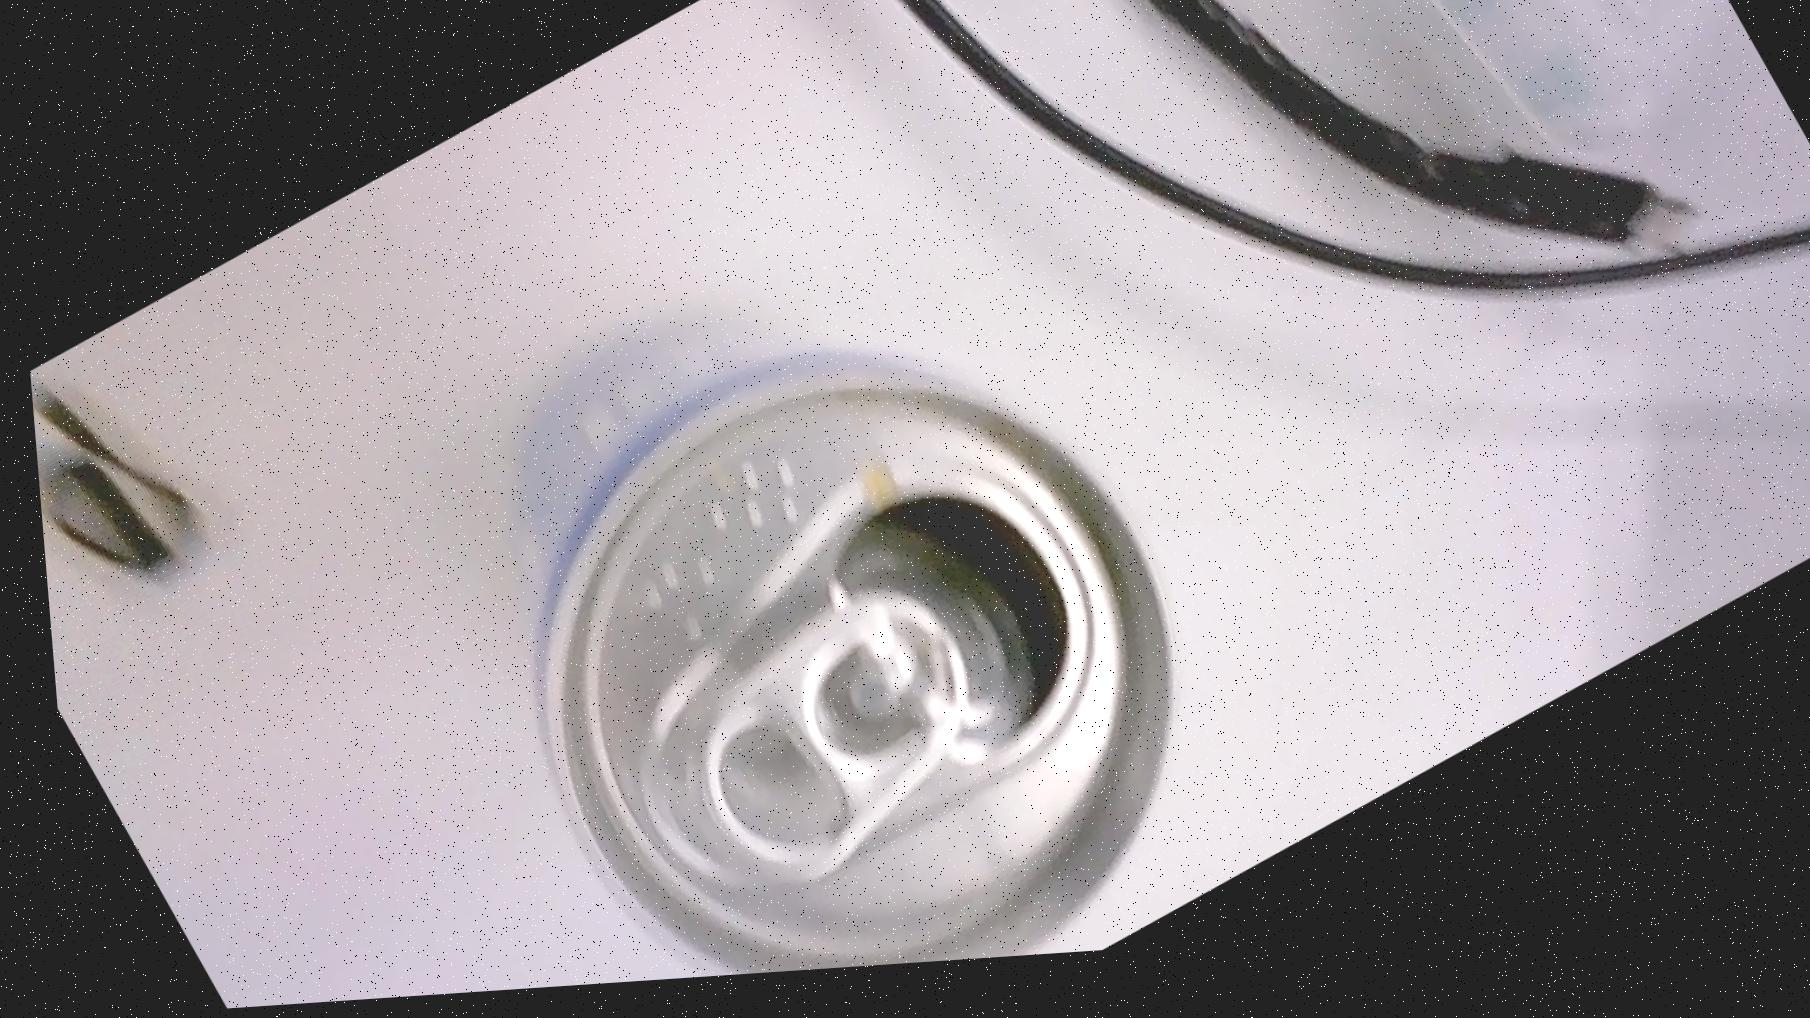letsbe: (334, 150, 1284, 1001)
